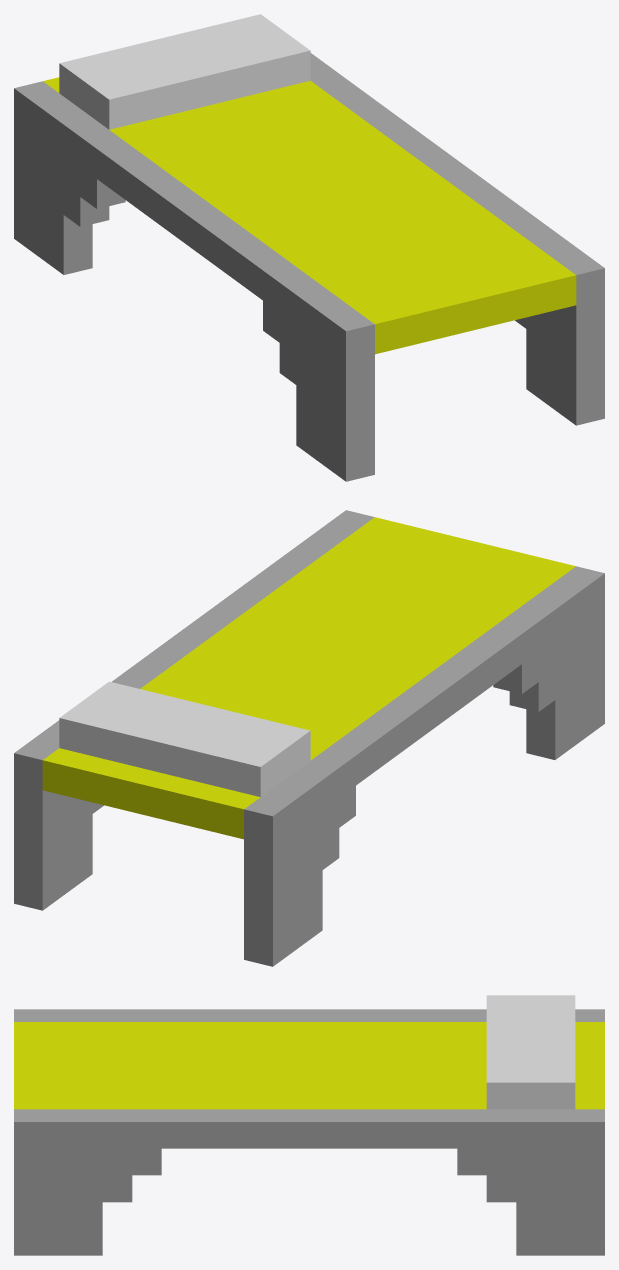
The model's file is SM_Bed_01a.fbx.
3 renders of one model, top to bottom at view 1: azimuth 30°, elevation 25°; view 2: azimuth 150°, elevation 25°; view 3: azimuth 270°, elevation 25°, orthographic. The views are drawn at different scales.
Parts seen in each view (by area): view 1: SM_Bed_01a; view 2: SM_Bed_01a; view 3: SM_Bed_01a.
Boxes of the visible parts, box(x1,y1,x2,y2) form: SM_Bed_01a: box(14, 14, 604, 481); SM_Bed_01a: box(14, 510, 604, 966); SM_Bed_01a: box(14, 995, 604, 1255).
Size of the model in its own units: 9 by 6 by 20.
